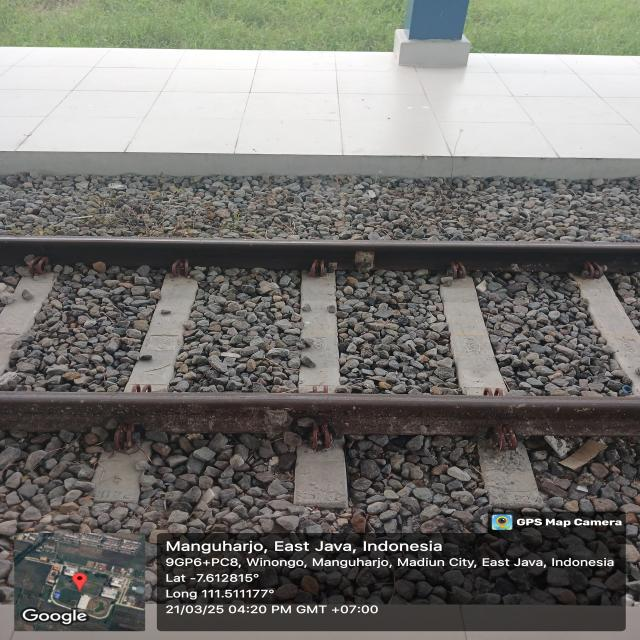rail-detection: (0, 390, 640, 437), (0, 236, 640, 272)
